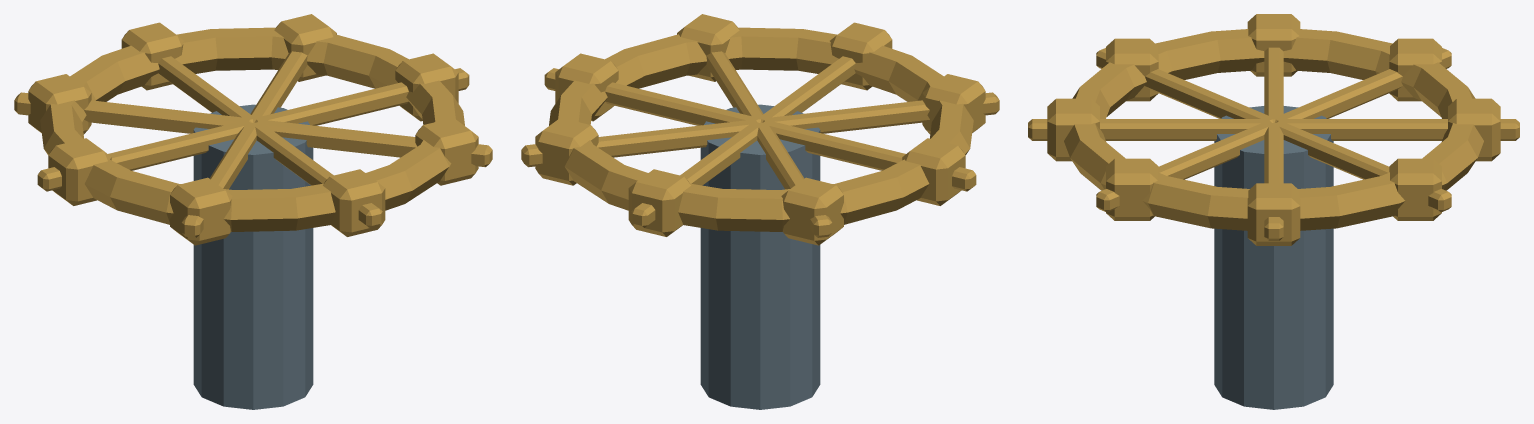
File: equipment-gear-mechanism.lod0.glb
3 renders of one model, left to right at view 1: azimuth 30°, elevation 25°; view 2: azimuth 150°, elevation 25°; view 3: azimuth 270°, elevation 25°, orthographic.
Parts seen in each view (by area): view 1: equipment-gear-mechanism__wheel, equipment-gear-mechanism__body; view 2: equipment-gear-mechanism__wheel, equipment-gear-mechanism__body; view 3: equipment-gear-mechanism__wheel, equipment-gear-mechanism__body.
Boxes of the visible parts, x1,y1,x2,y2 form: equipment-gear-mechanism__wheel: (14,14,492,245); equipment-gear-mechanism__body: (193,104,313,409); equipment-gear-mechanism__wheel: (521,14,999,245); equipment-gear-mechanism__body: (700,104,820,409); equipment-gear-mechanism__wheel: (1028,14,1519,245); equipment-gear-mechanism__body: (1214,106,1333,409).
Bounding box in the file's own units: 1.4 × 0.875 × 1.4.
